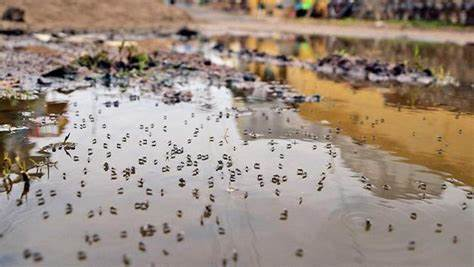Breeding_detected: (101, 160, 143, 187), (208, 154, 239, 183), (167, 137, 187, 168), (136, 223, 159, 240), (198, 203, 216, 224), (316, 169, 329, 196), (134, 197, 154, 212), (358, 218, 375, 235), (61, 201, 77, 217), (272, 175, 288, 191), (289, 246, 310, 257), (278, 207, 291, 223), (407, 210, 421, 223), (99, 120, 110, 131)
